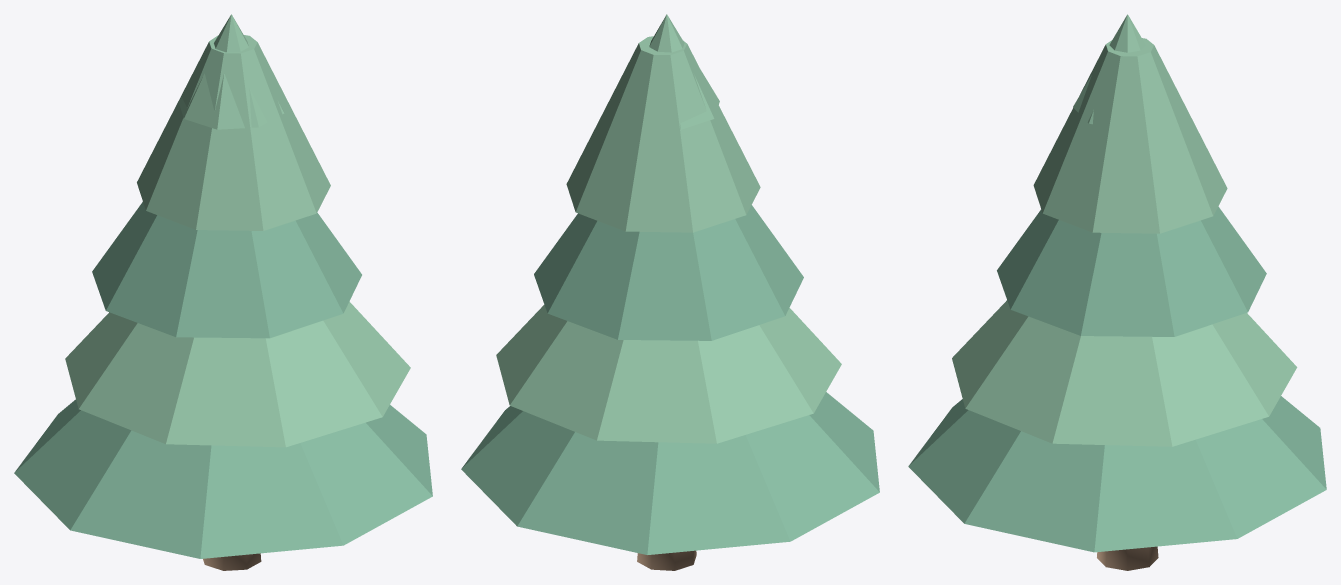
File: tree_pine_a.glb
The picture shows the model from 3 angles, left to right: view 1: azimuth 30°, elevation 25°; view 2: azimuth 150°, elevation 25°; view 3: azimuth 270°, elevation 25°; orthographic projection.
Visible parts, largest first — view 1: tree_pine_a; view 2: tree_pine_a; view 3: tree_pine_a.
Boxes of the visible parts, x1,y1,x2,y2 form: tree_pine_a: (14, 14, 432, 570); tree_pine_a: (461, 14, 879, 570); tree_pine_a: (908, 14, 1326, 570).
Size of the model in its own units: 2.46 by 3.5 by 2.44.
